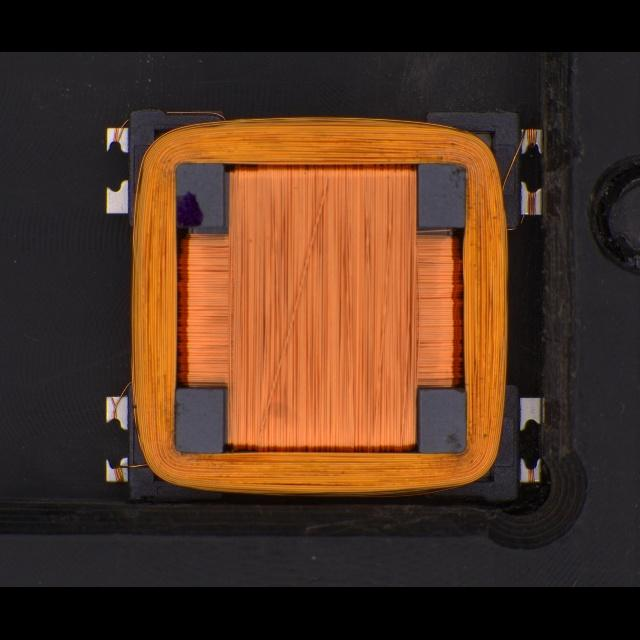Winding_Z: (122, 110, 517, 499)
